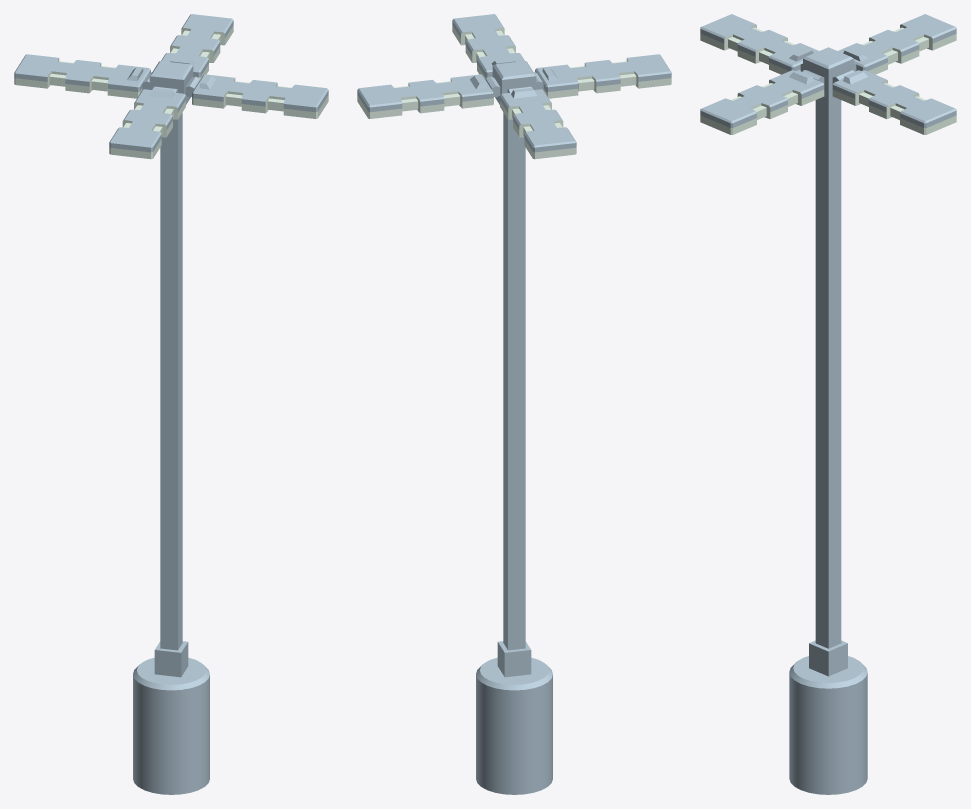
The model's file is streetlight_21.fbx.
3 views of the same model, side by side, from view 1: azimuth 30°, elevation 25°; view 2: azimuth 150°, elevation 25°; view 3: azimuth 270°, elevation 25° (orthographic).
Visible parts, largest first — view 1: pCube21, polySurface41 (×4), streetlight_21; view 2: pCube21, polySurface41 (×4), streetlight_21; view 3: pCube21, polySurface41 (×4), streetlight_21.
Boxes of the visible parts, x1,y1,x2,y2 form: pCube21: (149,61,193,677); polySurface41 (×4): (14,14,328,159); streetlight_21: (133,657,209,794); pCube21: (492,61,536,677); polySurface41 (×4): (357,14,671,159); streetlight_21: (476,657,552,794); pCube21: (803,47,853,676); polySurface41 (×4): (700,14,956,134); streetlight_21: (789,656,867,794).
Bounding box in the file's own units: 3.76 × 11.68 × 3.76.
